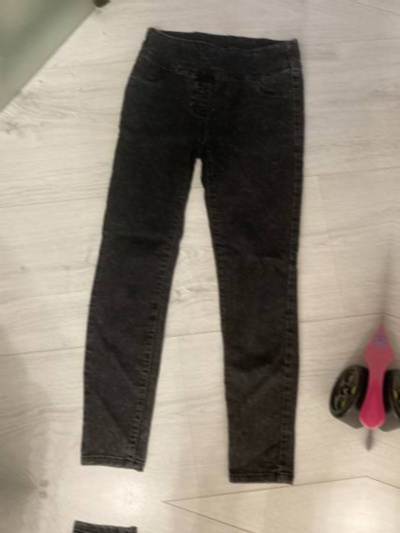Pants: (50, 4, 343, 490), (0, 514, 289, 533), (101, 0, 394, 9)
